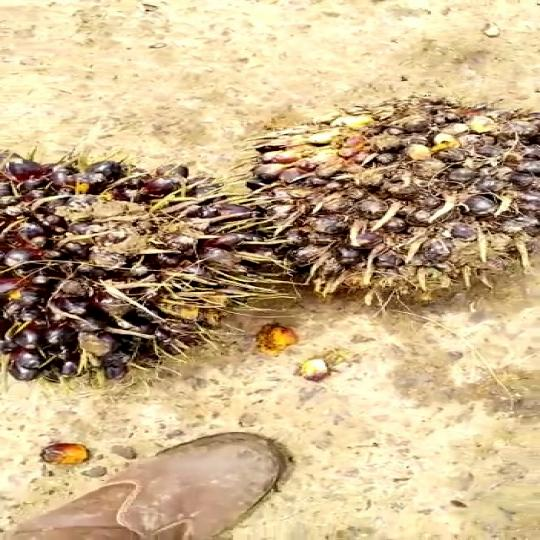mentah: (0, 120, 295, 384), (246, 94, 540, 316)
